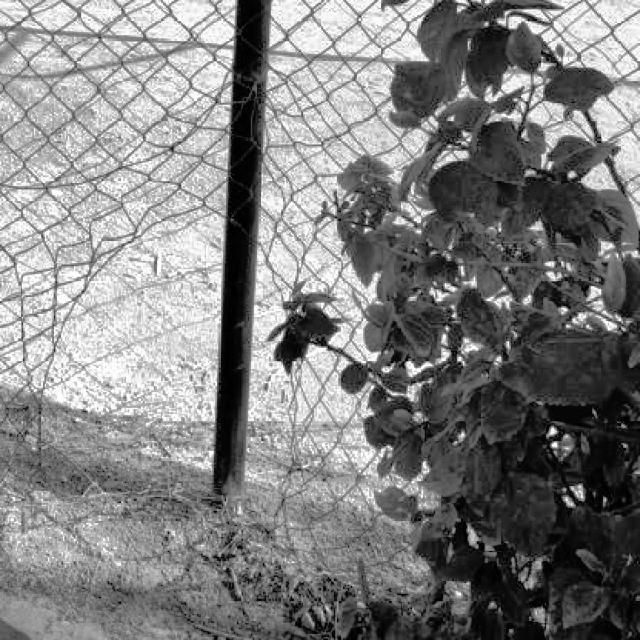anomaly-fence: (38, 139, 347, 550)
